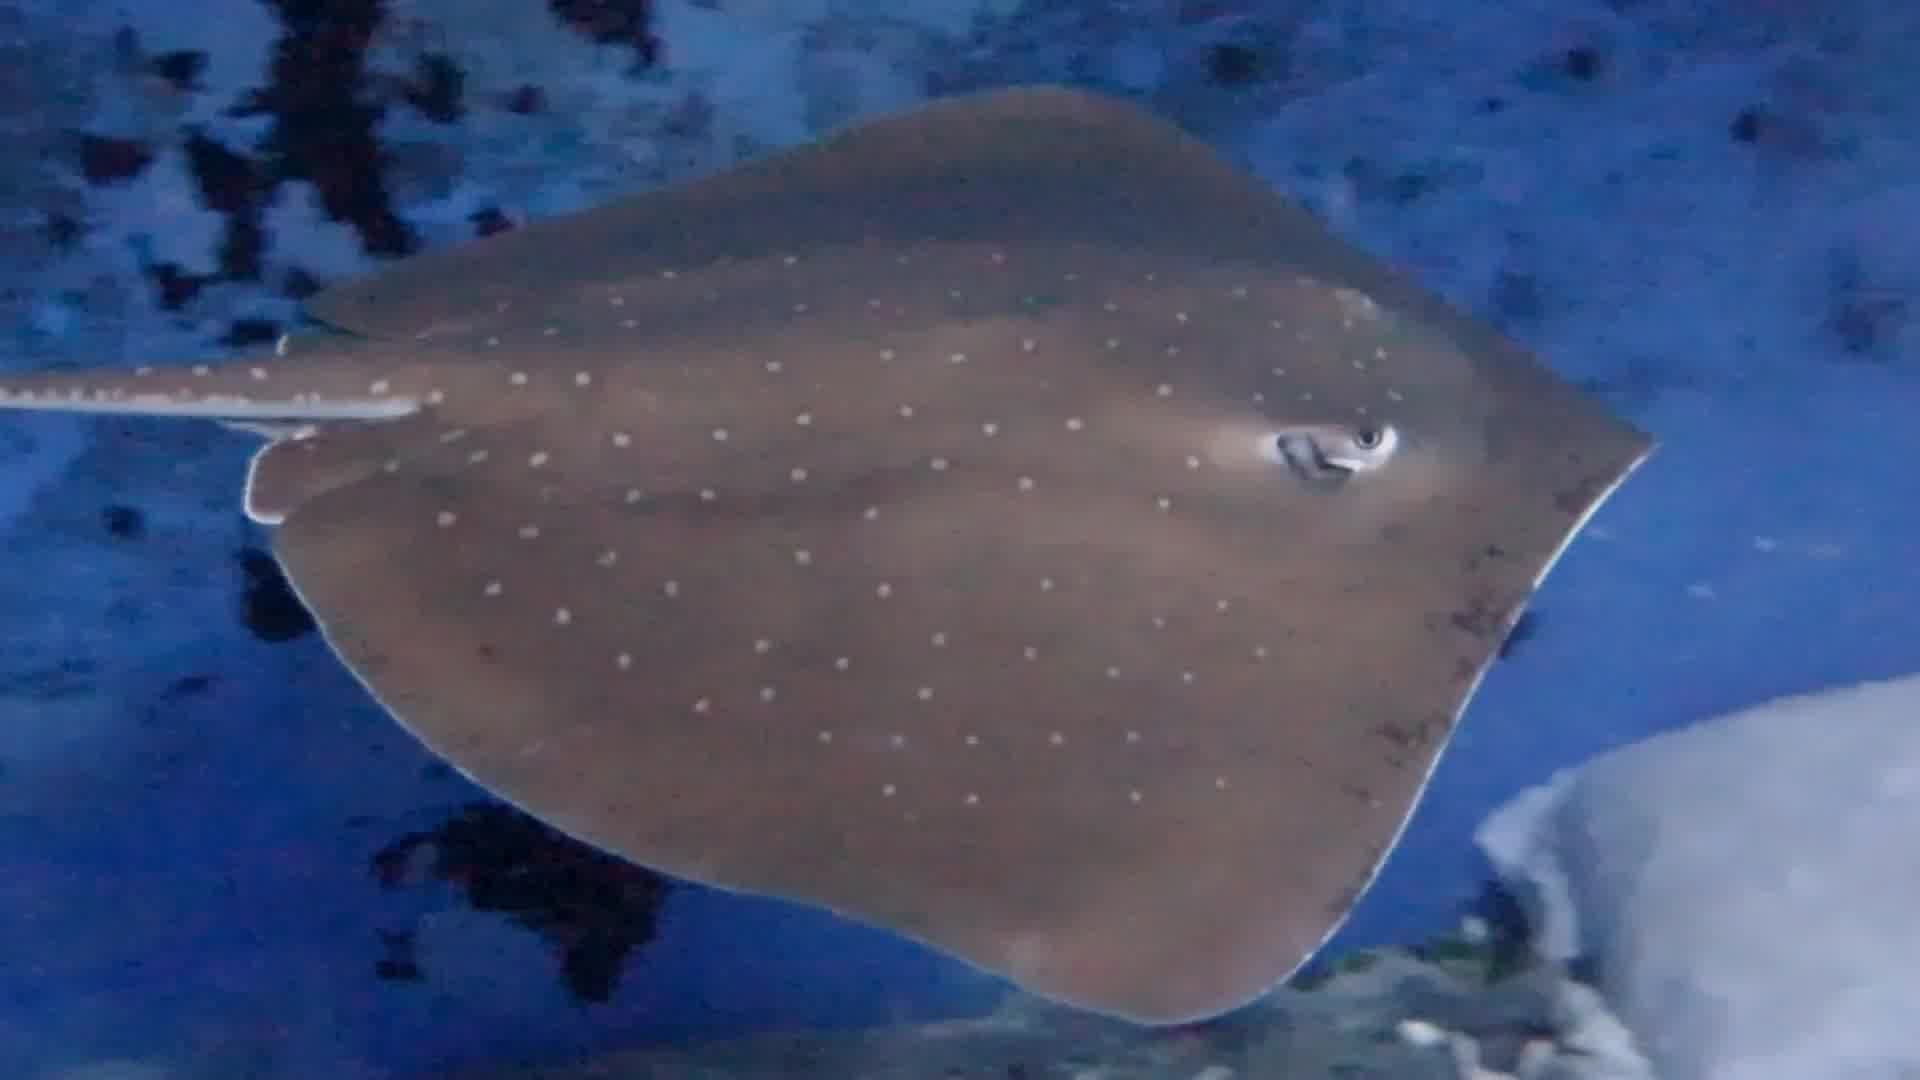Himantura gerrardi: (13, 62, 1684, 1065)
